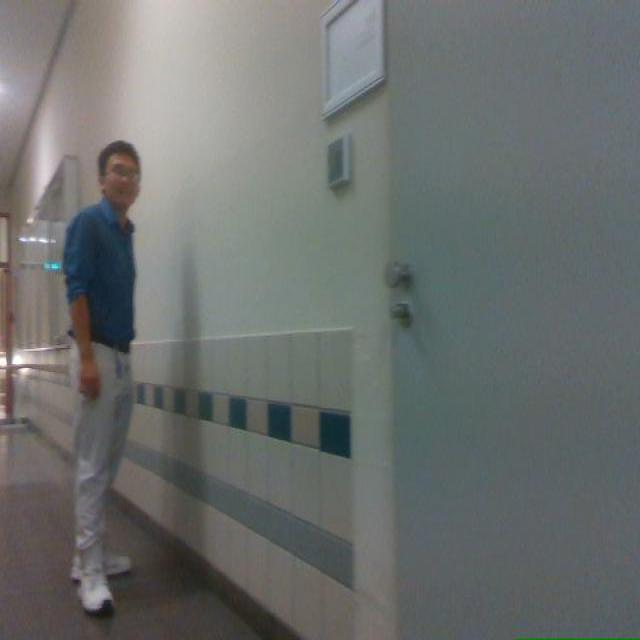humans: (64, 140, 139, 615)
